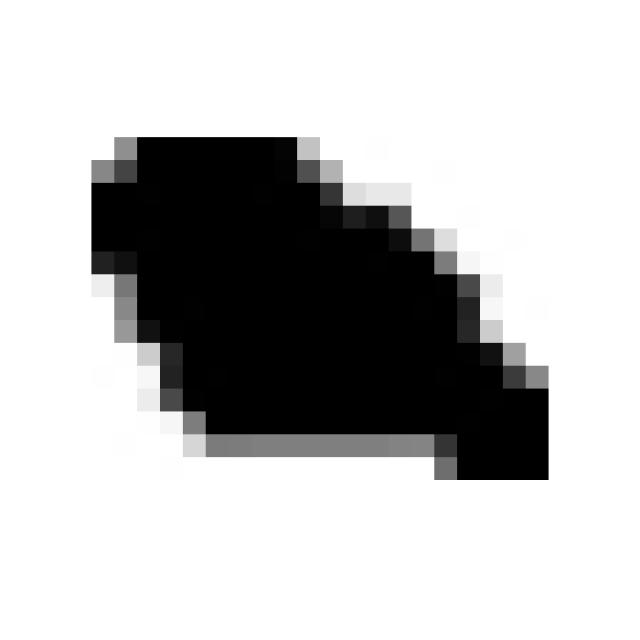0 -zero-: (76, 112, 560, 492)
